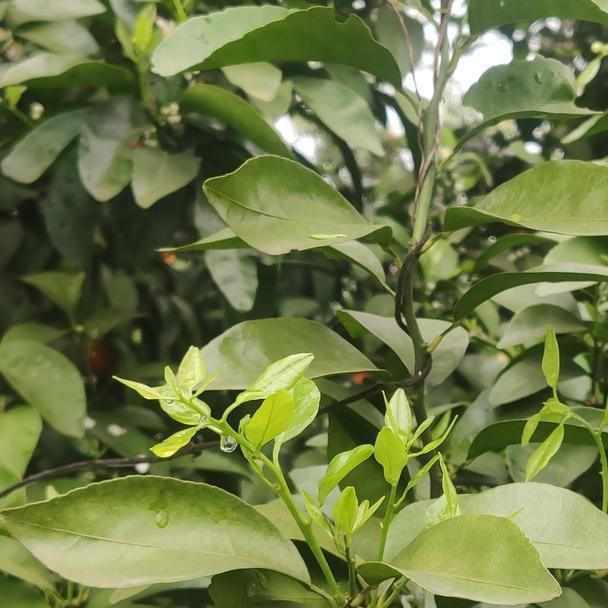shoot: (137, 363, 313, 517), (529, 335, 608, 481), (378, 399, 452, 522)
